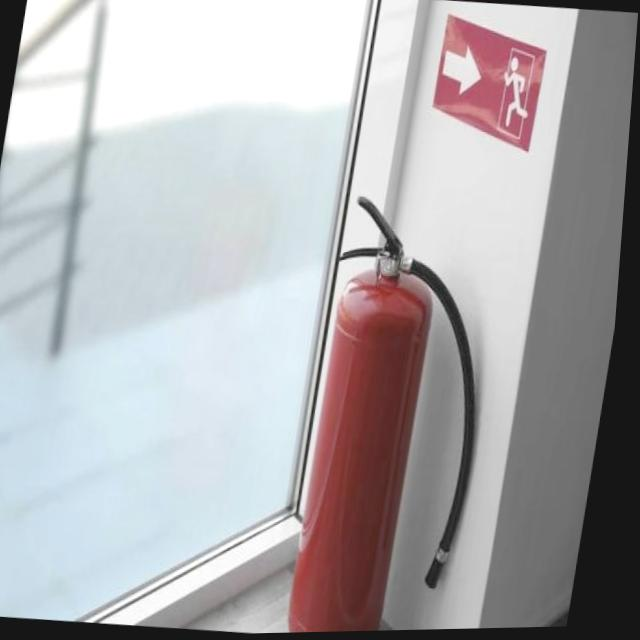FireExtinguisher: (284, 185, 522, 634)
